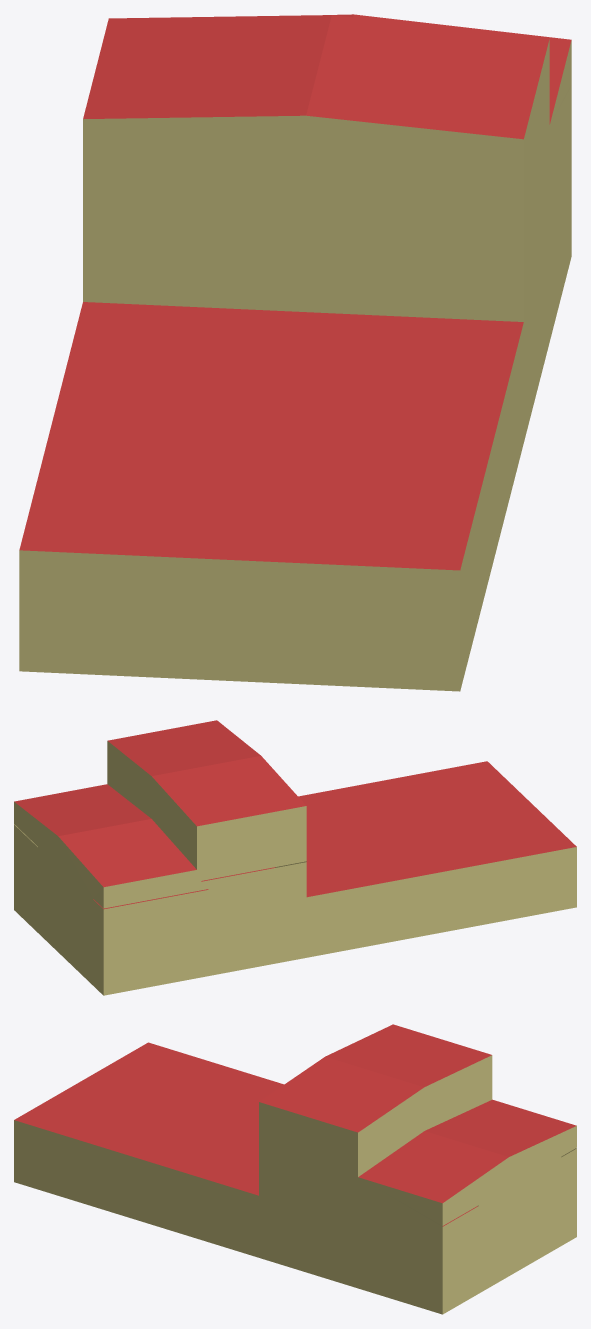
3 views of the same model, one above another, from view 1: azimuth 30°, elevation 25°; view 2: azimuth 150°, elevation 25°; view 3: azimuth 270°, elevation 25° (orthographic). The views are drawn at different scales.
Size of the model in its own units: 57 by 64.55 by 20.61.
